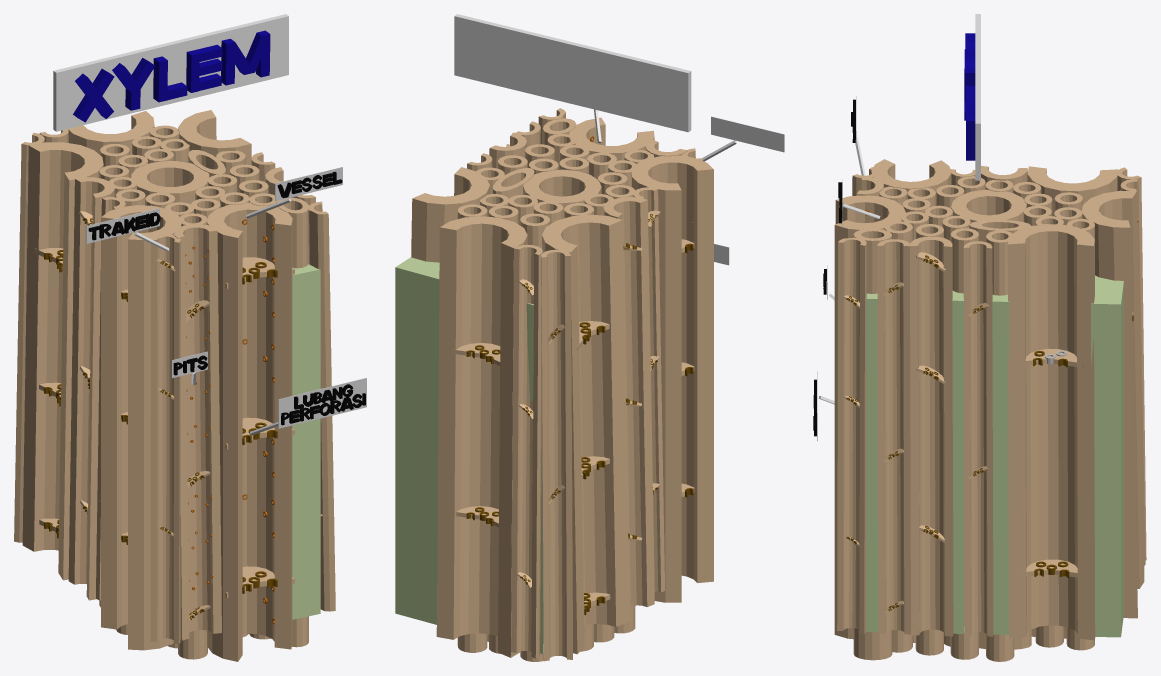
The model's file is xylem.glb.
3 renders of one model, left to right at view 1: azimuth 30°, elevation 25°; view 2: azimuth 150°, elevation 25°; view 3: azimuth 270°, elevation 25°, orthographic. The views are drawn at different scales.
Visible parts, largest first — view 1: New_Game_Object (×10); view 2: New_Game_Object (×3); view 3: New_Game_Object (×3).
Boxes of the visible parts, x1,y1,x2,y2 form: New_Game_Object (×10): (14, 14, 366, 661); New_Game_Object (×3): (395, 14, 784, 661); New_Game_Object (×3): (834, 14, 1146, 661).
Bounding box in the file's own units: 0.9602 × 1.99 × 1.09.
